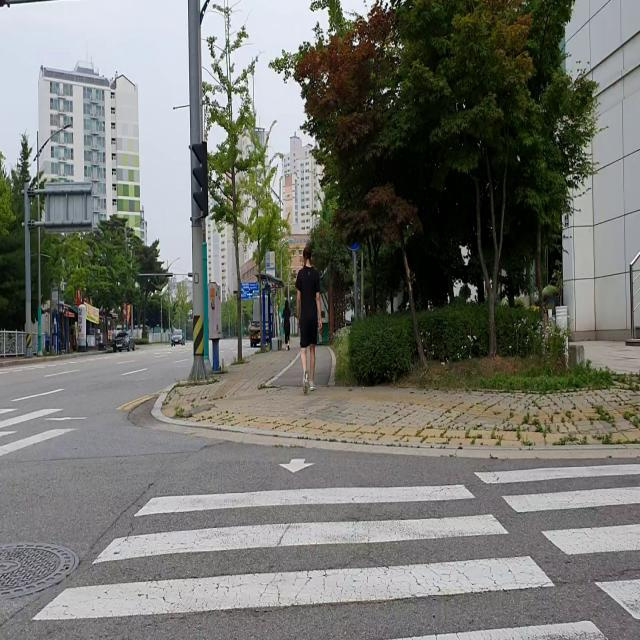횡단보도: (29, 455, 640, 640), (0, 405, 77, 453)
